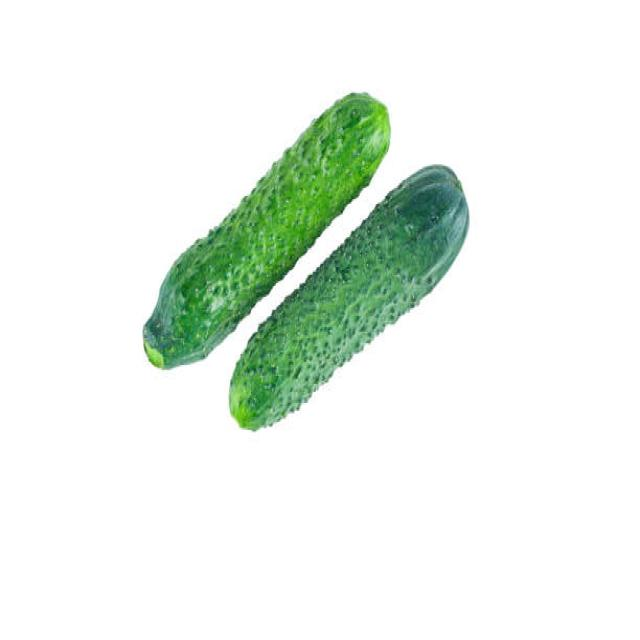cucumber: (140, 91, 468, 432)
